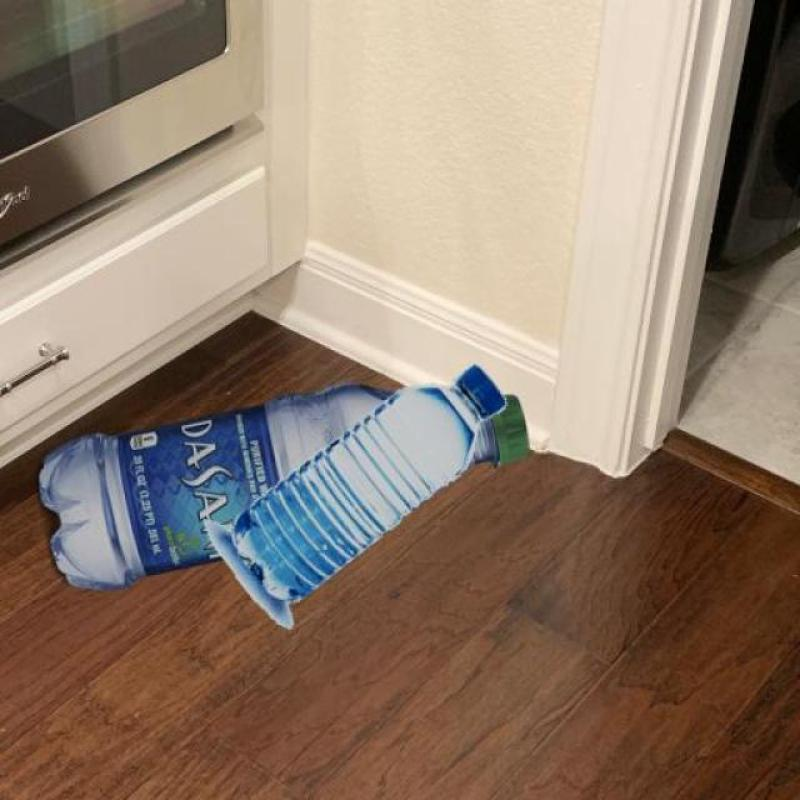botella: (40, 383, 530, 591), (231, 366, 505, 606)
